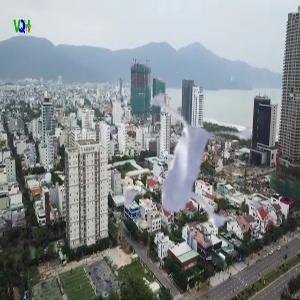drone: (69, 56, 290, 277)
